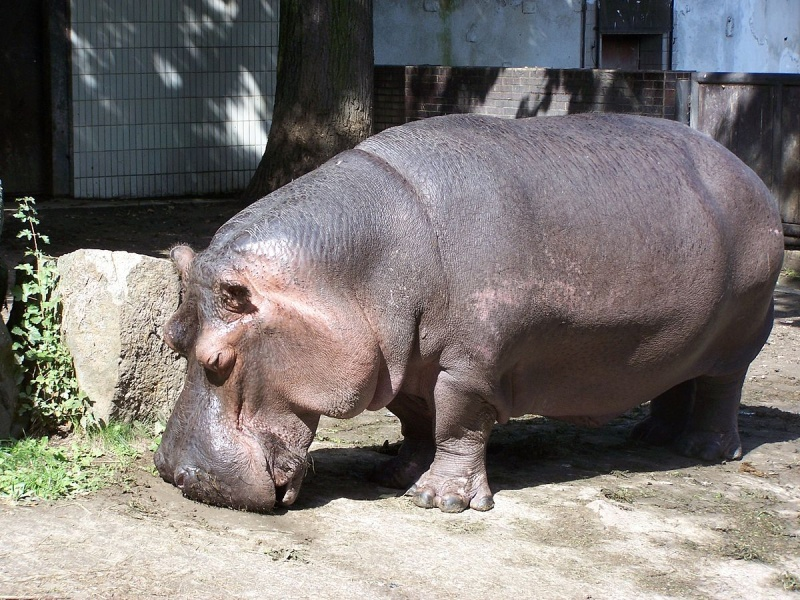hipopotamo: (137, 104, 800, 528)
